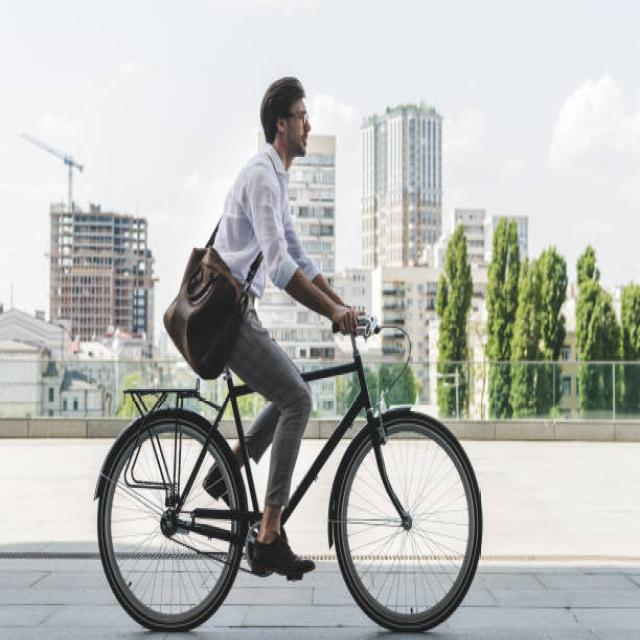bicycle: (96, 79, 482, 631)
